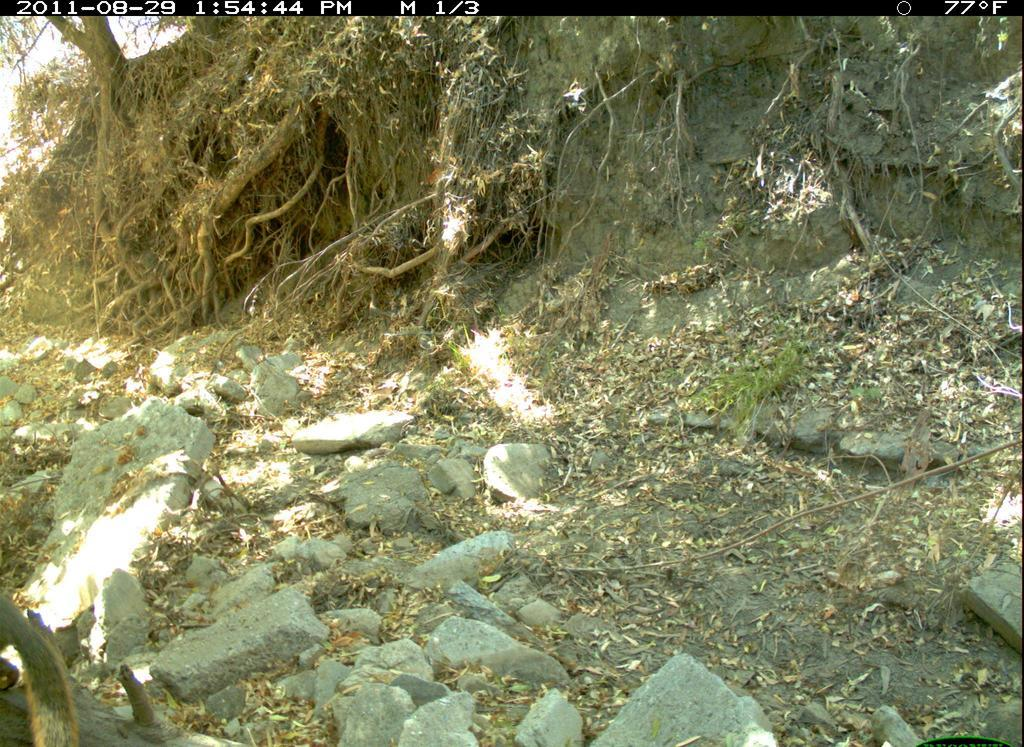squirrel: (3, 585, 86, 747)
